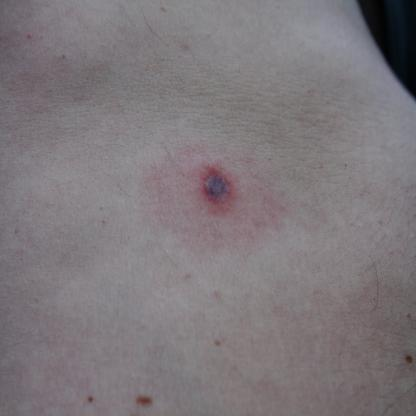Tick: (189, 165, 243, 217)
